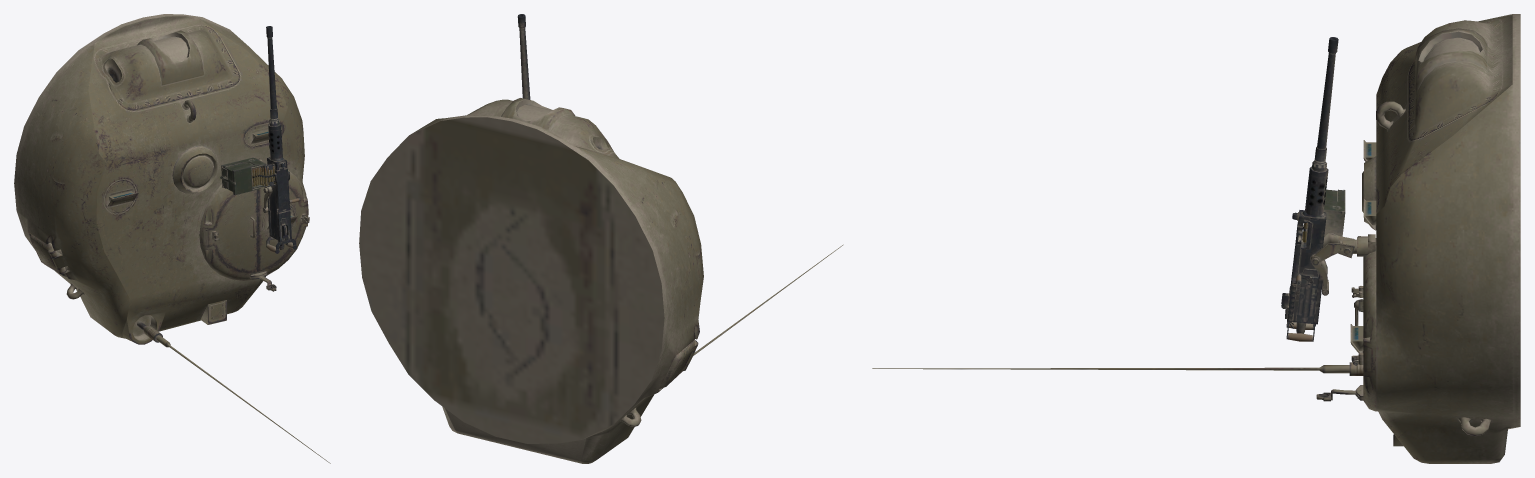
Rendered from Turret_01.glb.
3 renders of one model, left to right at view 1: azimuth 30°, elevation 25°; view 2: azimuth 150°, elevation 25°; view 3: azimuth 270°, elevation 25°, orthographic. The views are drawn at different scales.
Visible parts, largest first — view 1: set_0_group_0; view 2: set_0_group_0; view 3: set_0_group_0.
Part boxes in pixels (x1,y1,x2,y2): set_0_group_0: (14, 14, 330, 463); set_0_group_0: (359, 14, 843, 463); set_0_group_0: (872, 14, 1520, 463).
Size of the model in its own units: 2.07 by 2.37 by 3.25.
1 material, 1 textured.
